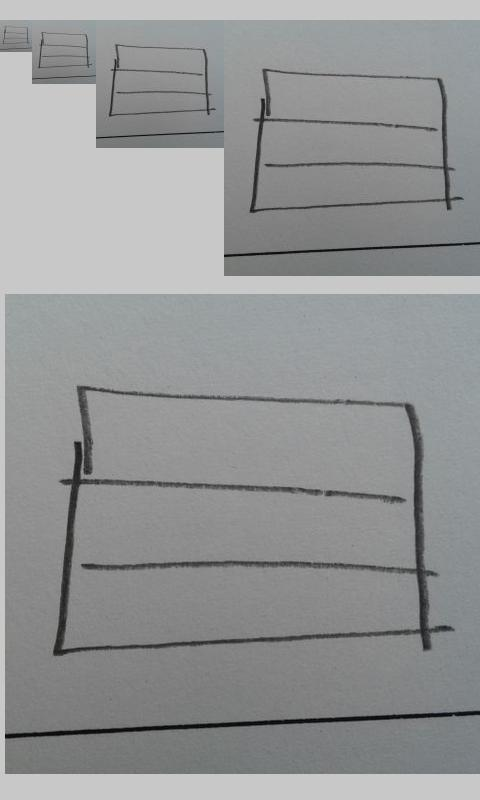list_view: (57, 386, 433, 667), (248, 66, 454, 220), (107, 42, 210, 117), (37, 31, 90, 69), (2, 25, 29, 46)
